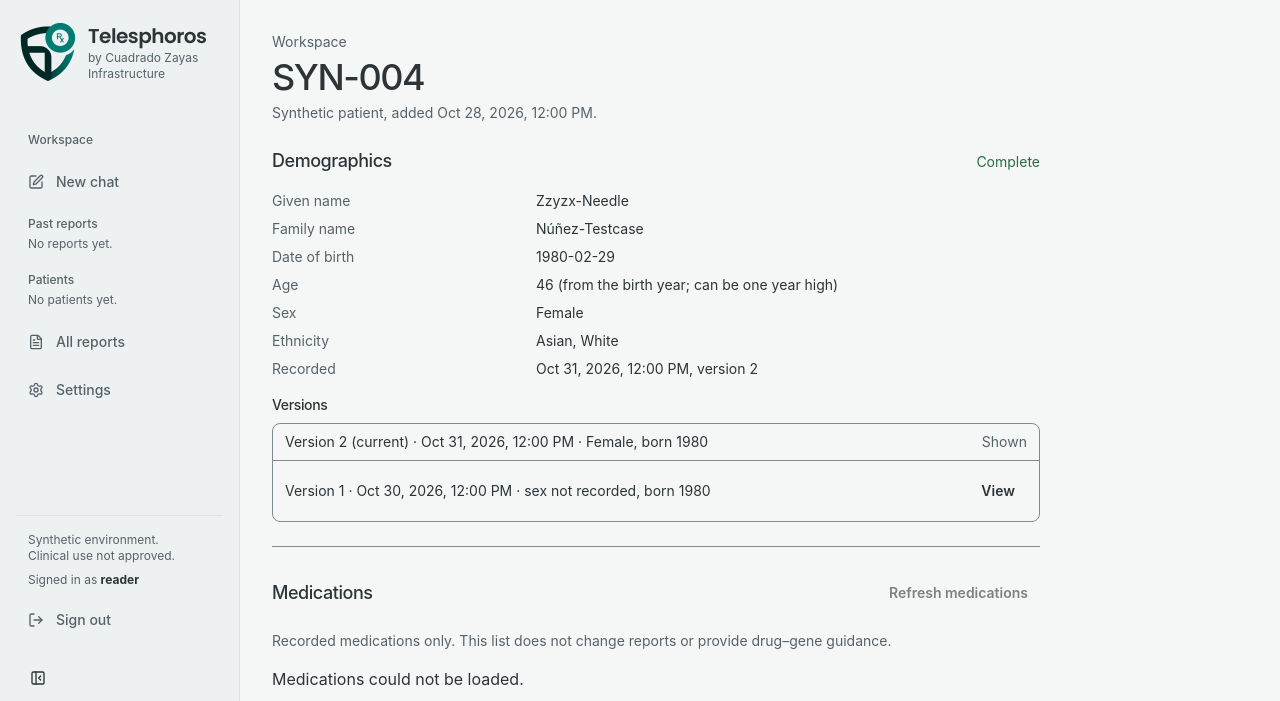
it: the patient page (spec 025 T303, PD-5) › opens an earlier version by its number, marked as earlier, and goes back to the current one
The image size is (1280, 701).
Expected: the heading "SYN-004" is shown, [272,55,424,99]
Expected: the text "Zzyzx-Needle" is shown, [536,192,629,209]
Step 1. Click the button "View" → [998, 491], box [969,469,1027,513]
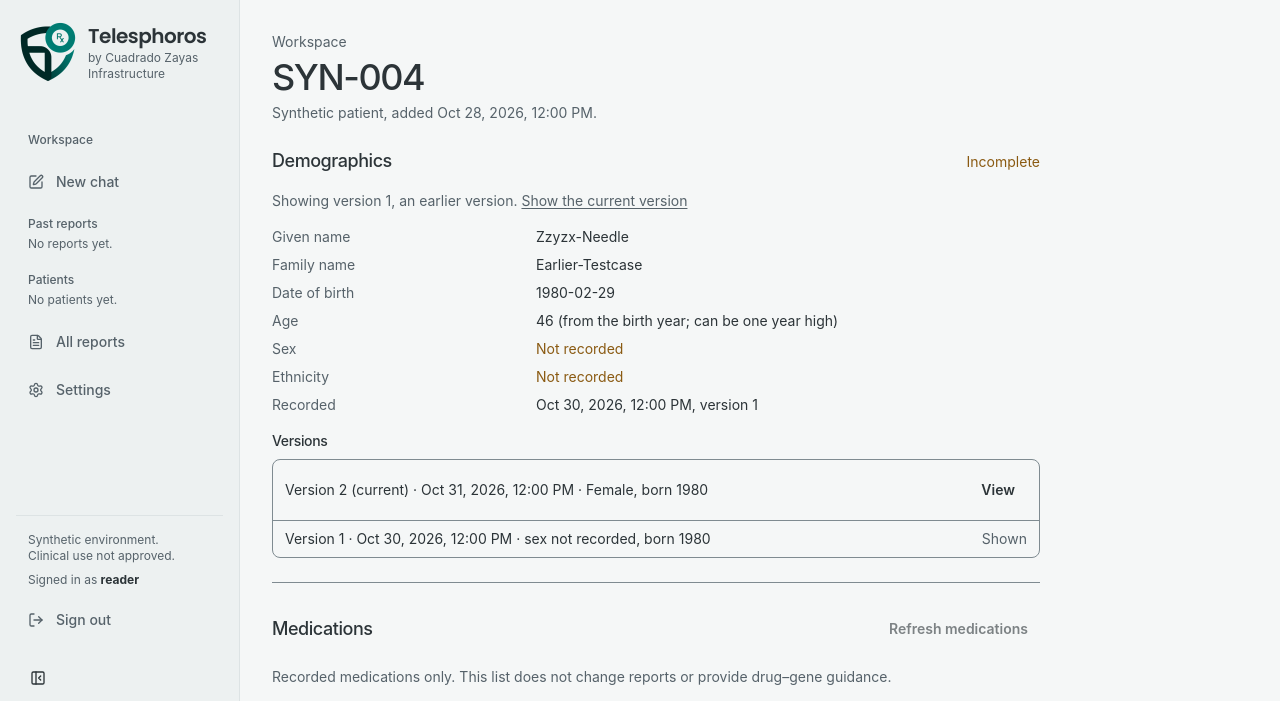
Expected: the text "Earlier-Testcase" is shown, [536,256,642,273]
Expected: the message "Showing version 1, an earlier version. Show the current version" is shown, [272,191,688,211]
Step 2. Click the button "Show the current version" → [604, 201], box [522,191,688,211]
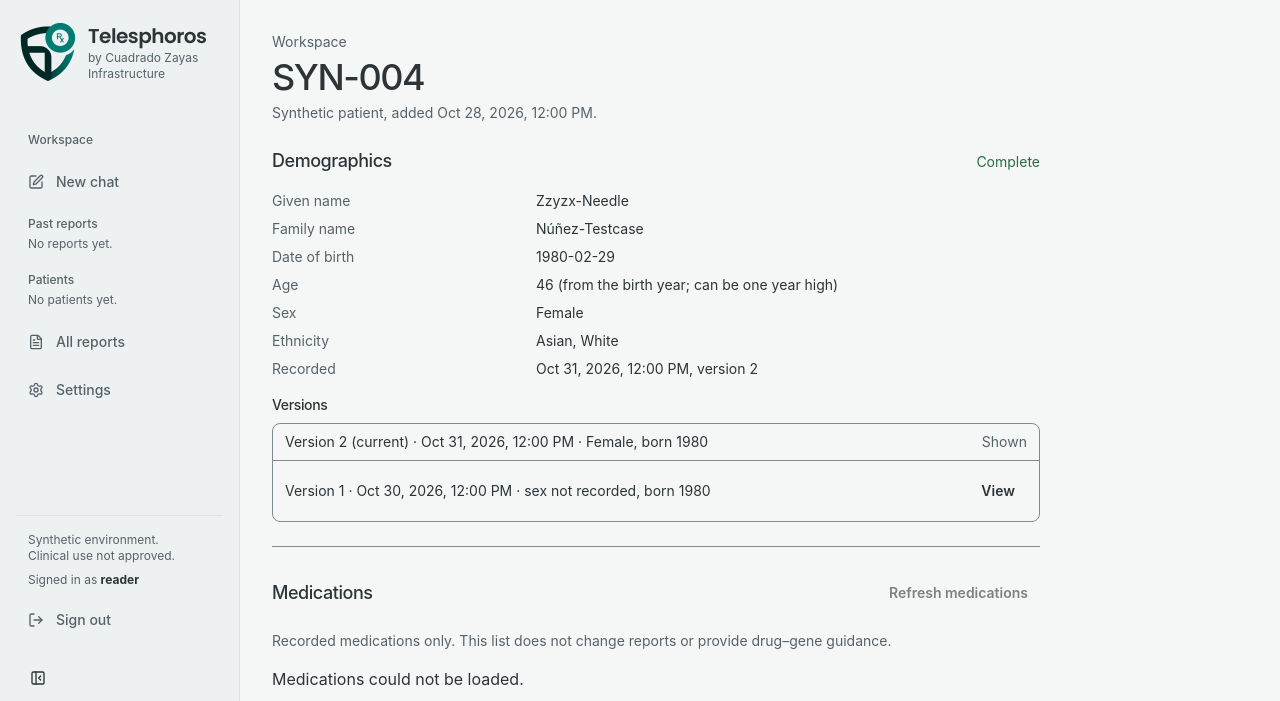
Expected: the text "Núñez-Testcase" is shown, [536,220,644,237]
